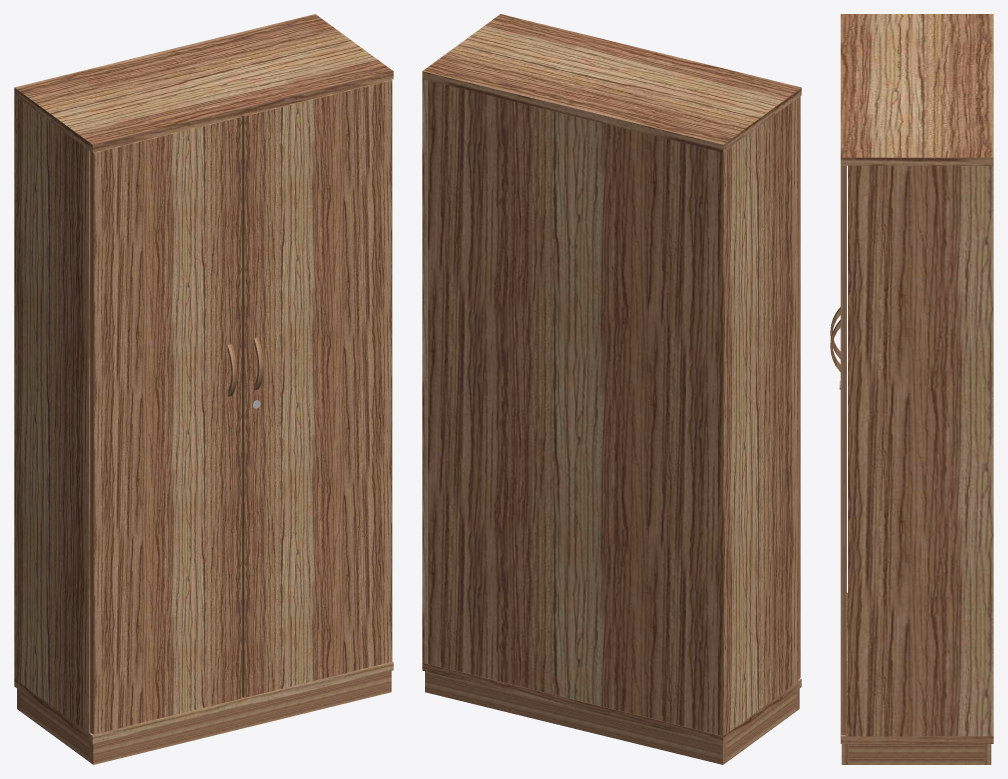
Rendered from baseline_5OH_45x100_coatcloset_finala.fbx.
The picture shows the model from 3 angles, left to right: view 1: azimuth 30°, elevation 25°; view 2: azimuth 150°, elevation 25°; view 3: azimuth 270°, elevation 25°; orthographic projection. The views are drawn at different scales.
Parts seen in each view (by area): view 1: drewno_mesh (×2), drewno_mesh1, metal_mesh; view 2: drewno_mesh1, metal_mesh, drewno_mesh; view 3: drewno_mesh1, drewno_mesh, metal_mesh.
Boxes of the visible parts, left/top/right/bottom form: drewno_mesh (×2): left=90, top=79, right=392, bottom=734; drewno_mesh1: left=14, top=14, right=393, bottom=743; metal_mesh: left=17, top=671, right=391, bottom=764; drewno_mesh1: left=422, top=14, right=801, bottom=743; metal_mesh: left=425, top=671, right=799, bottom=764; drewno_mesh: left=798, top=96, right=800, bottom=679; drewno_mesh1: left=840, top=14, right=993, bottom=743; drewno_mesh: left=840, top=165, right=846, bottom=734; metal_mesh: left=841, top=744, right=991, bottom=764.
Size of the model in its own units: 254 by 501 by 122.
